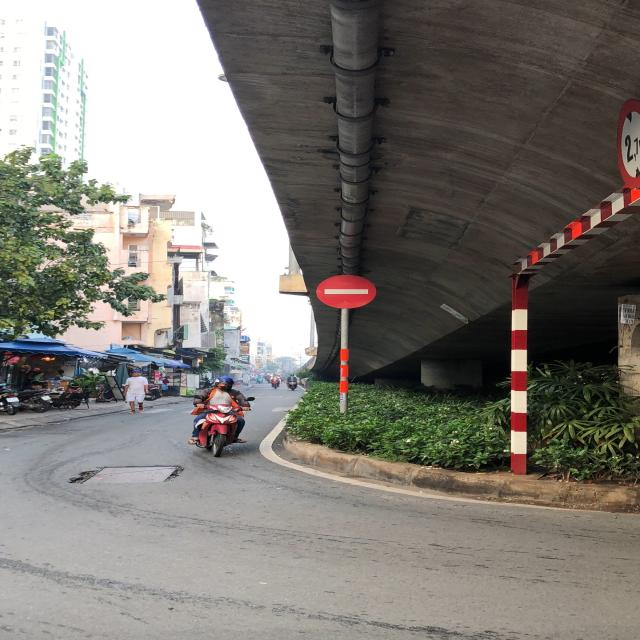Bien bao cam di nguoc chieu: (310, 272, 376, 311)
